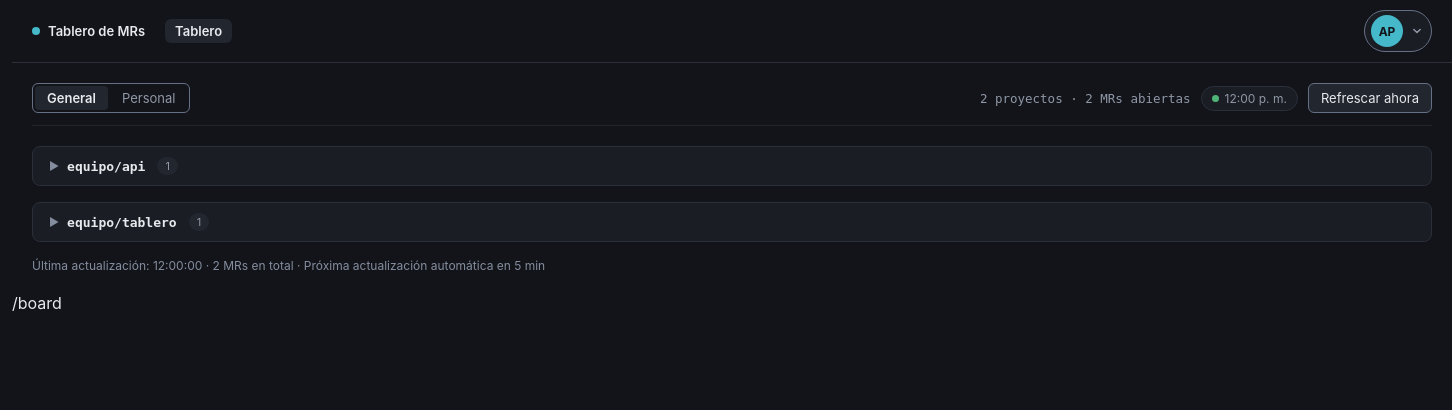
Test: vista personal de quien no es administrador › avisa cuando no tiene tareas pendientes
Click the button "Personal".
click(149, 98)  # box 110,86 -> 188,110
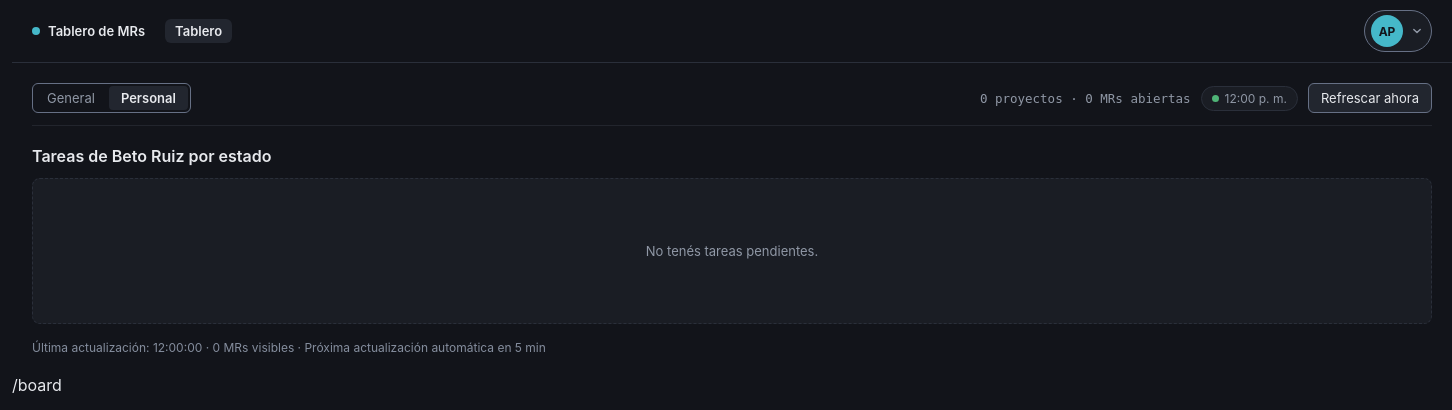
Expected: the message "No tenés tareas pendientes." is shown, 32,178 -> 1432,324
